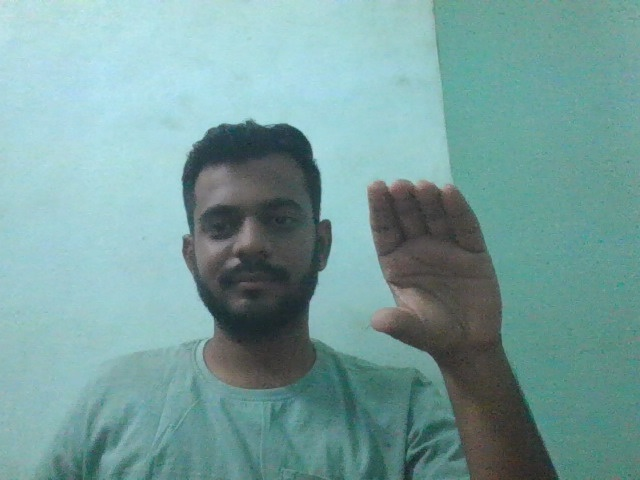no: (353, 170, 519, 363)
